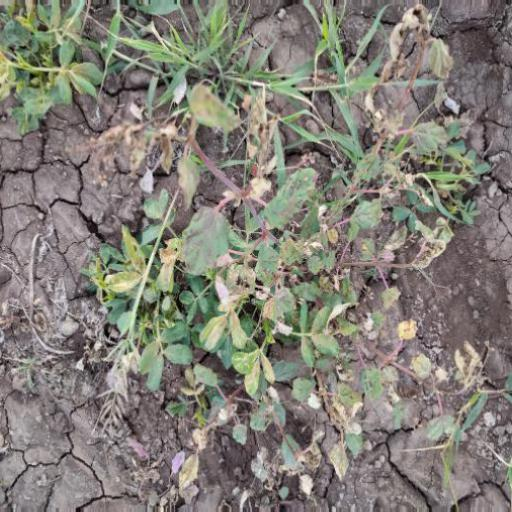weed: (77, 165, 468, 506), (1, 1, 293, 137)
